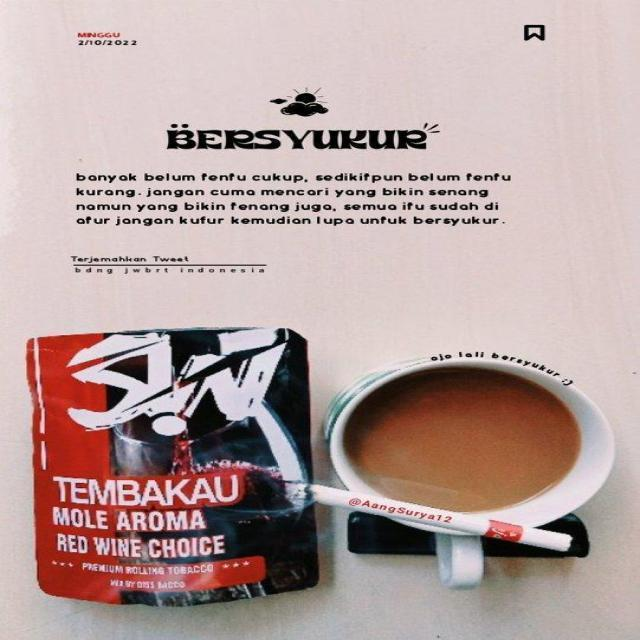rokok: (277, 469, 603, 563)
